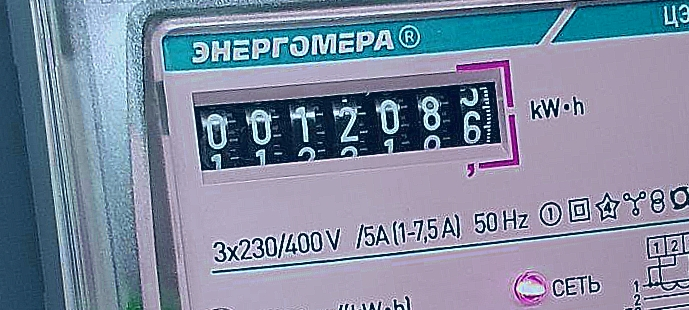0: (244, 103, 277, 148), (201, 107, 230, 152), (375, 95, 403, 137)
1: (289, 101, 316, 145)
2: (332, 102, 362, 144)
6: (456, 107, 484, 146)
8: (417, 91, 444, 133)
screen: (180, 38, 534, 219)
